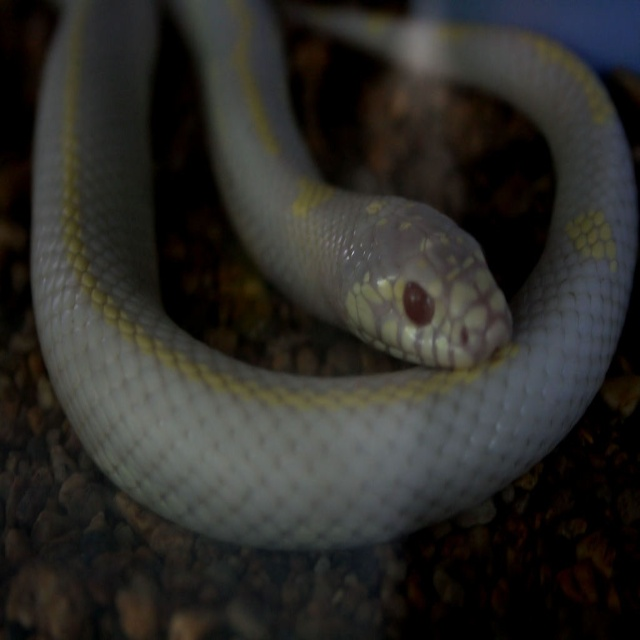Snake: (28, 0, 639, 556)
